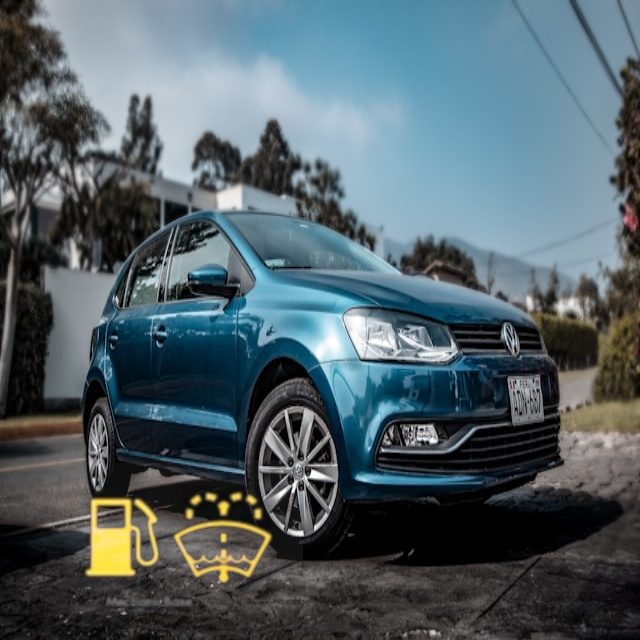symbol: (144, 460, 303, 619), (47, 463, 198, 614)
